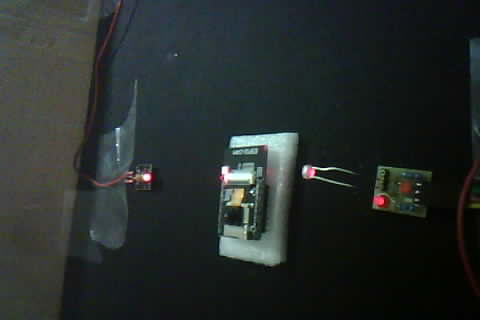esp32: (213, 136, 294, 260)
